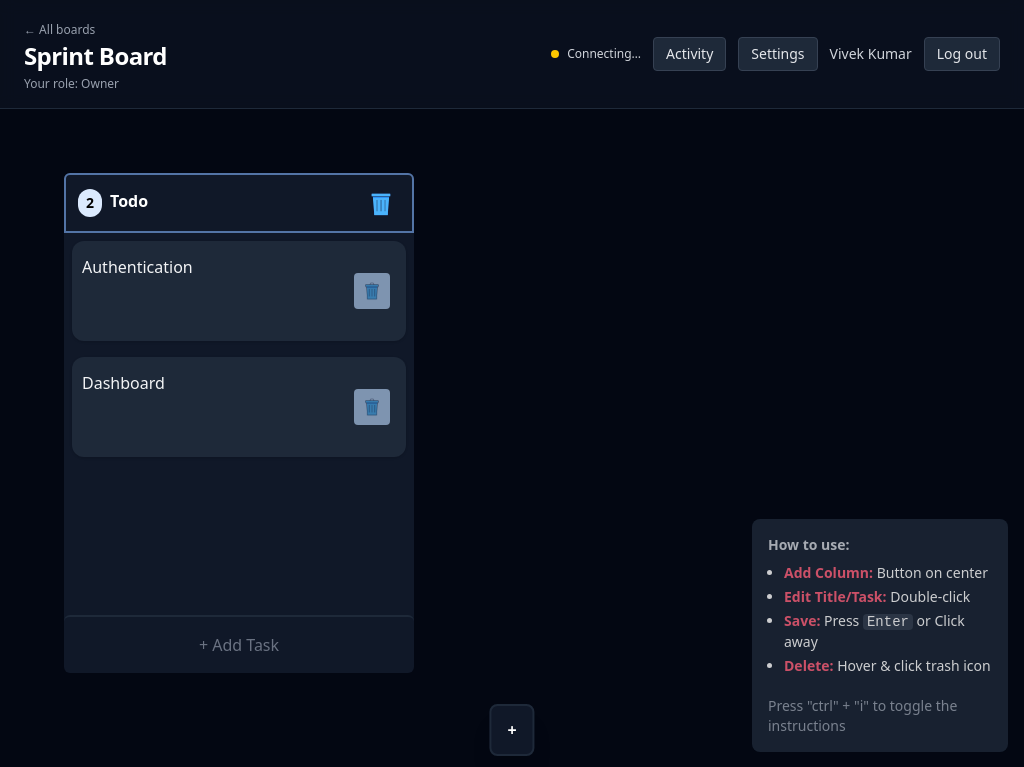
Test case: showing comments › loads the comments of whichever task is opened
This screenshot has width=1024, height=767.
Click the text "Authentication" at (137, 267), box [82, 256, 193, 278]
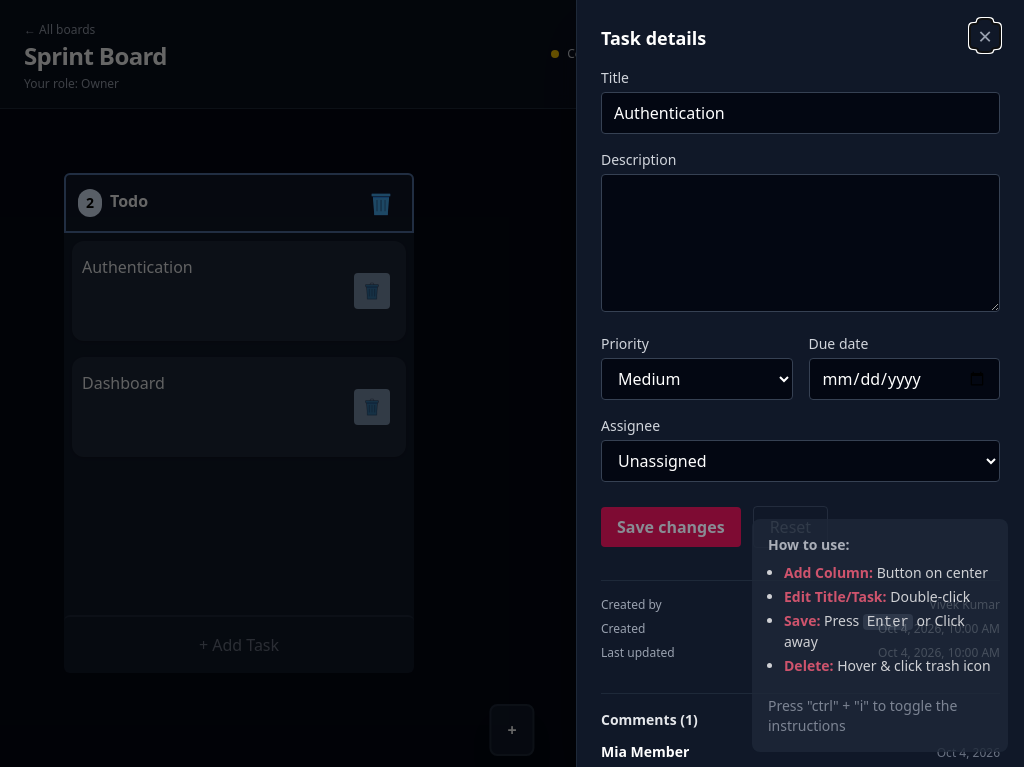
Click the button named "Close task details" at (985, 36), box [970, 24, 1000, 48]
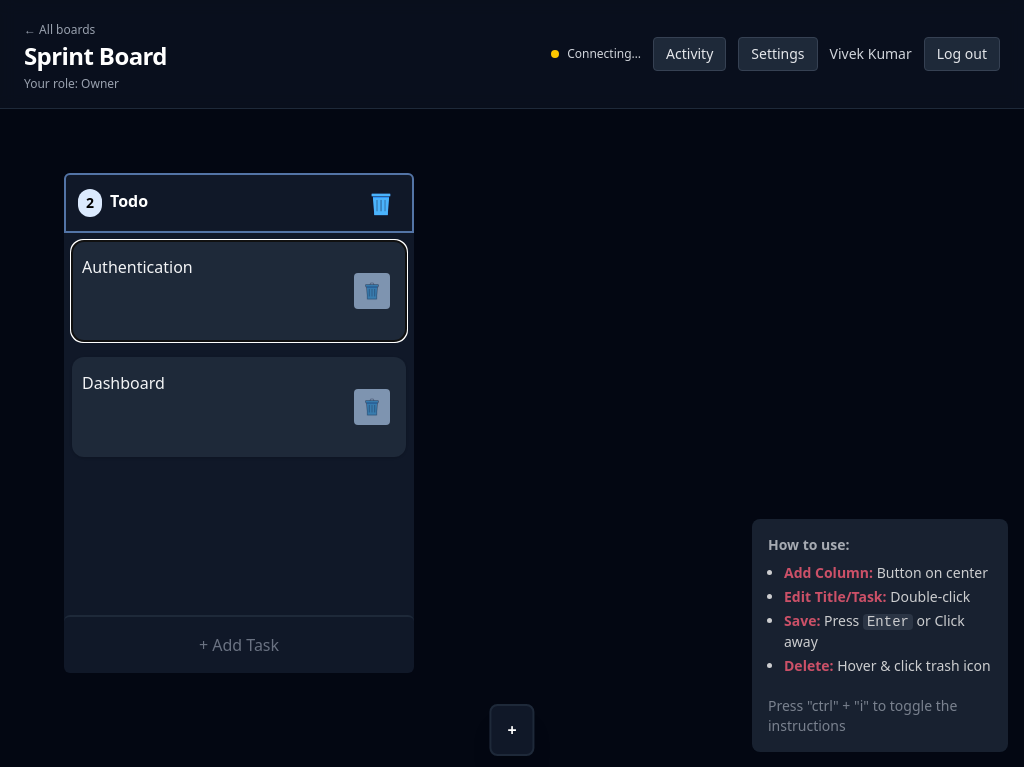
Click the text "Dashboard" at (123, 383), box [82, 372, 165, 394]
(page scrolled)
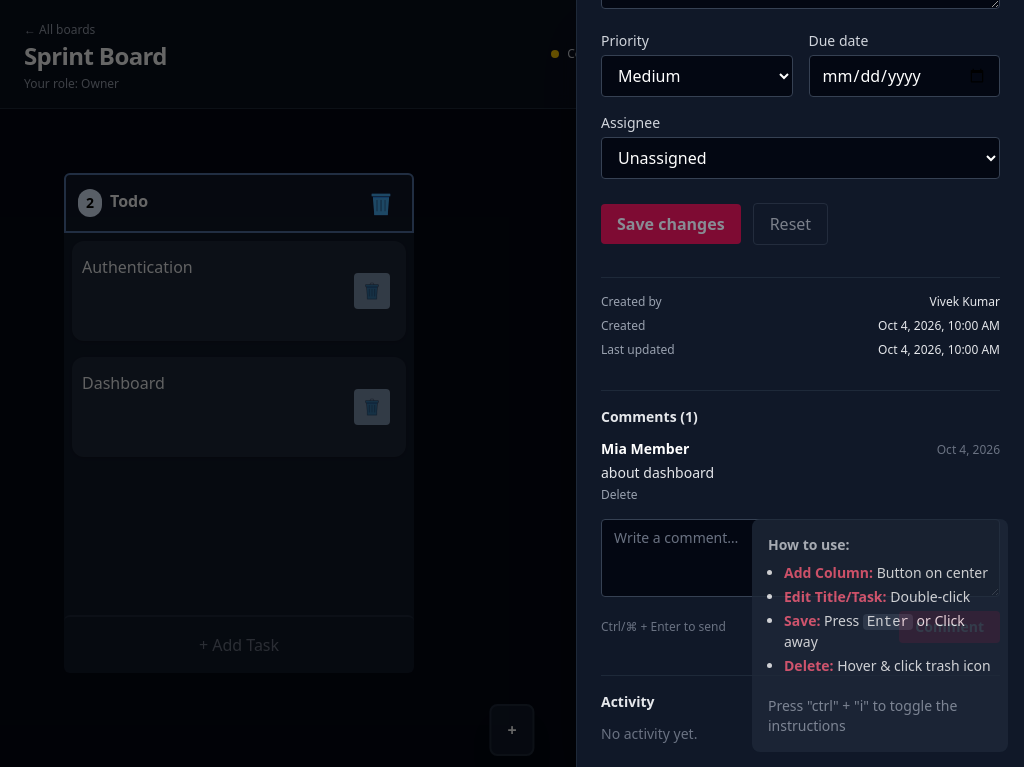
Expected: the text "about auth" is not shown
Expected: the text "about dashboard" is shown, [601, 463, 714, 482]
